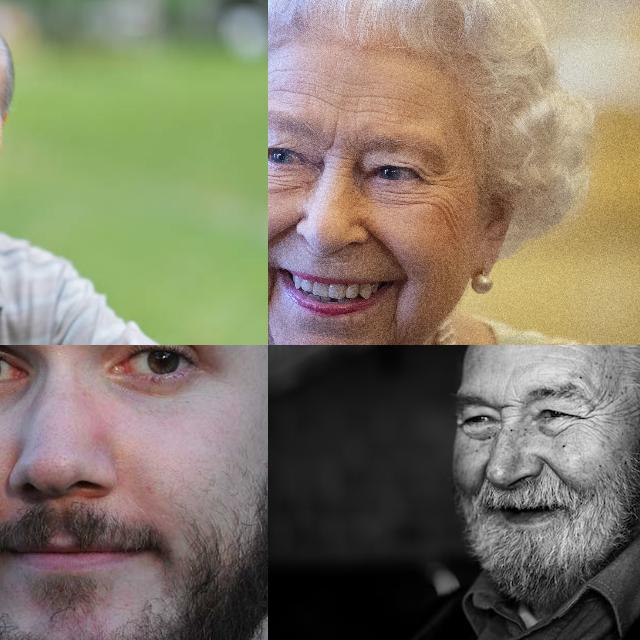crows_feet: (422, 172, 456, 208), (579, 402, 605, 434)
forehead: (352, 87, 422, 123), (268, 66, 334, 104), (546, 345, 581, 364)
frown_line: (324, 148, 354, 172), (496, 396, 520, 418), (322, 130, 338, 156)
gummy_smile: (372, 234, 408, 268), (268, 215, 294, 254), (537, 450, 569, 480), (470, 467, 490, 505)
masseter: (440, 220, 468, 254)
sad_smile: (390, 292, 404, 336), (268, 271, 279, 321)
smoker_lines: (308, 252, 354, 272)
